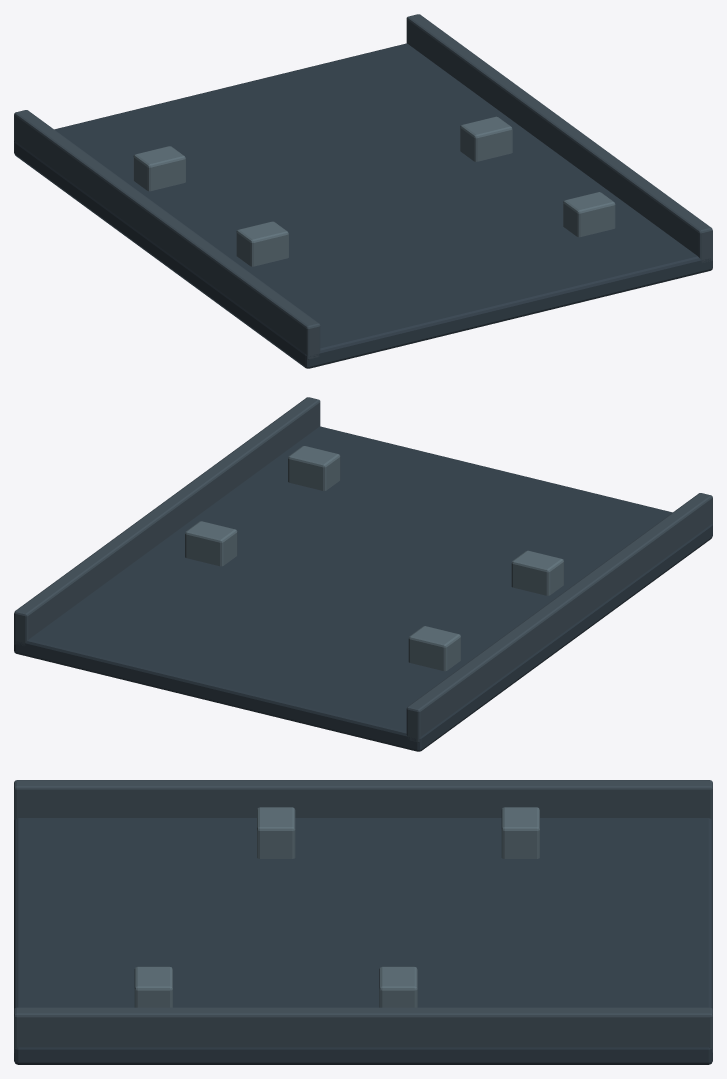
The model's file is rooftop_lod0.glb.
The picture shows the model from 3 angles, top to bottom: view 1: azimuth 30°, elevation 25°; view 2: azimuth 150°, elevation 25°; view 3: azimuth 270°, elevation 25°; orthographic projection. The views are drawn at different scales.
Visible parts, largest first — view 1: ND_Batch_ND_RooftopMetal, ND_Batch_ND_CityConcrete, ND_Batch_ND_CityConcreteLight; view 2: ND_Batch_ND_RooftopMetal, ND_Batch_ND_CityConcrete, ND_Batch_ND_CityConcreteLight; view 3: ND_Batch_ND_RooftopMetal, ND_Batch_ND_CityConcrete, ND_Batch_ND_CityConcreteLight.
Part boxes in pixels (x1,y1,x2,y2): ND_Batch_ND_RooftopMetal: (14, 43, 712, 368); ND_Batch_ND_CityConcrete: (14, 14, 712, 359); ND_Batch_ND_CityConcreteLight: (133, 116, 615, 266); ND_Batch_ND_RooftopMetal: (14, 426, 712, 751); ND_Batch_ND_CityConcrete: (14, 397, 712, 742); ND_Batch_ND_CityConcreteLight: (185, 446, 563, 671); ND_Batch_ND_RooftopMetal: (14, 818, 712, 1064); ND_Batch_ND_CityConcrete: (14, 780, 712, 1052); ND_Batch_ND_CityConcreteLight: (134, 807, 539, 1007).
Bounding box in the file's own units: 16 × 1.63 × 20.
